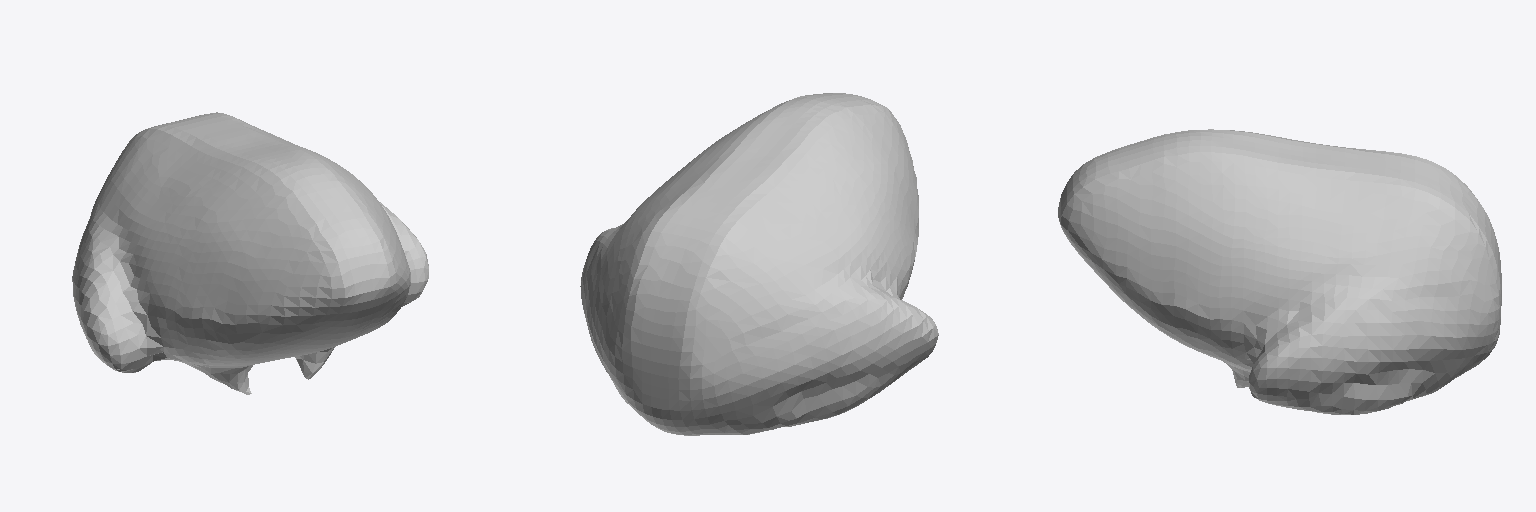
The model's file is frogHigh.OBJ.
3 views of the same model, side by side, from view 1: azimuth 30°, elevation 25°; view 2: azimuth 150°, elevation 25°; view 3: azimuth 270°, elevation 25° (orthographic).
Visible parts, largest first — view 1: ZBrushPolyMesh3D; view 2: ZBrushPolyMesh3D; view 3: ZBrushPolyMesh3D.
Boxes of the visible parts, <box> form: ZBrushPolyMesh3D: <box>72,112,428,394</box>; ZBrushPolyMesh3D: <box>580,93,938,435</box>; ZBrushPolyMesh3D: <box>1058,129,1501,414</box>.
Bounding box in the file's own units: 2.11 × 1.45 × 2.45.